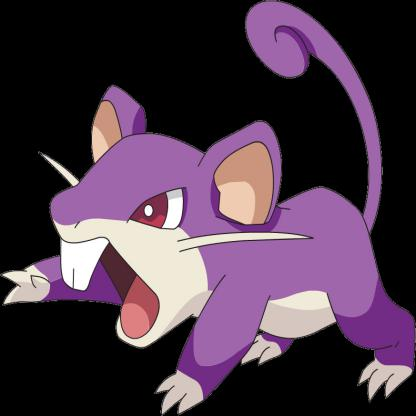Rattata: (1, 1, 416, 413)
